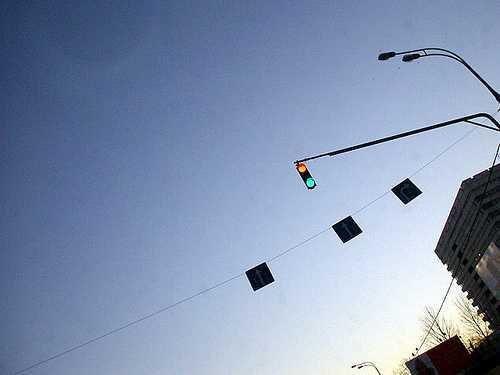green: (306, 176, 317, 190)
red: (297, 161, 308, 174)
